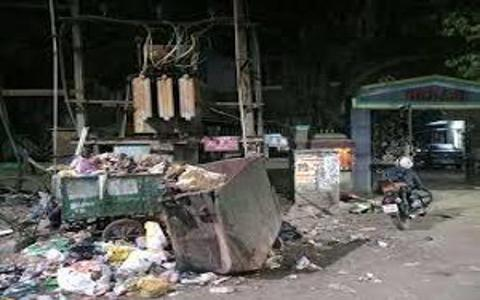overflowing garbage: (74, 158, 276, 289)
